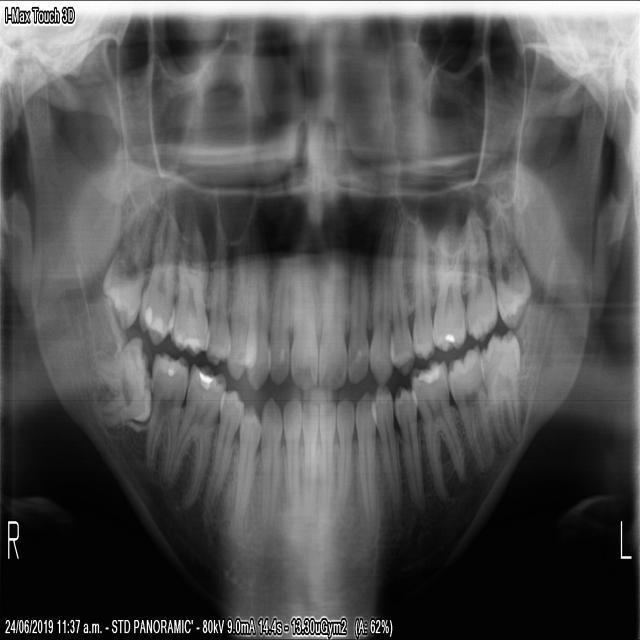LCD: (351, 383, 376, 522)
LCU: (367, 240, 392, 385)
LID: (333, 392, 354, 517), (316, 391, 336, 510)
LIU: (316, 250, 349, 393), (345, 255, 369, 387)
LMD: (405, 353, 465, 512), (444, 339, 498, 478), (482, 318, 522, 454)
LMU: (487, 196, 535, 328), (462, 202, 498, 342), (429, 224, 467, 352)
LPMD: (367, 381, 402, 519), (391, 378, 425, 513)
LPMU: (388, 217, 415, 377), (410, 216, 435, 361)
RCD: (255, 388, 282, 546)
RCU: (241, 246, 272, 396)
RID: (280, 389, 302, 512), (299, 394, 319, 518)
RIU: (287, 256, 317, 395), (264, 259, 291, 391)
RMD: (161, 355, 229, 515), (85, 330, 152, 432), (142, 344, 189, 479)
RMU: (98, 191, 154, 335), (134, 197, 179, 349), (166, 224, 211, 360)
RPMD: (200, 384, 243, 519), (227, 396, 263, 537)
RPMU: (222, 250, 259, 386), (201, 252, 231, 369)
